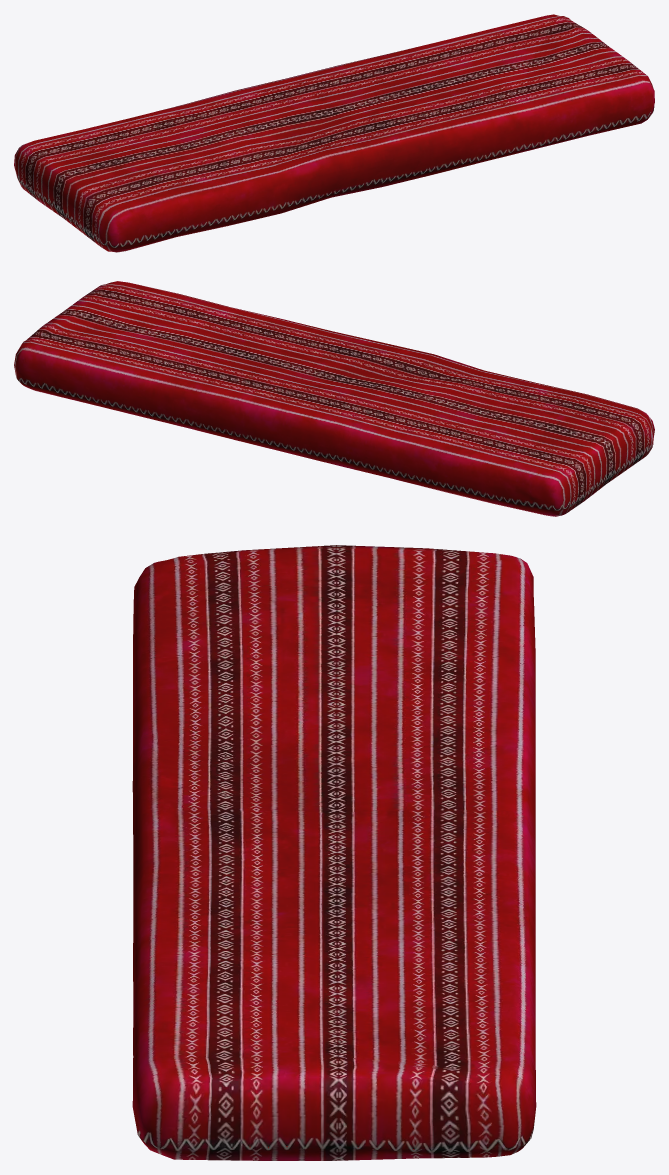
3 renders of one model, top to bottom at view 1: azimuth 30°, elevation 25°; view 2: azimuth 150°, elevation 25°; view 3: azimuth 270°, elevation 25°, orthographic. The views are drawn at different scales.
Visible parts, largest first — view 1: SM_Moon_Garou_Seat_01v3_LOD0; view 2: SM_Moon_Garou_Seat_01v3_LOD0; view 3: SM_Moon_Garou_Seat_01v3_LOD0.
Part boxes in pixels (bbox=[...]): SM_Moon_Garou_Seat_01v3_LOD0: bbox=[14, 14, 654, 252]; SM_Moon_Garou_Seat_01v3_LOD0: bbox=[14, 281, 654, 516]; SM_Moon_Garou_Seat_01v3_LOD0: bbox=[132, 545, 536, 1160].
Bounding box in the file's own units: 4.79 × 0.4045 × 1.51.
1 material, 1 textured.
